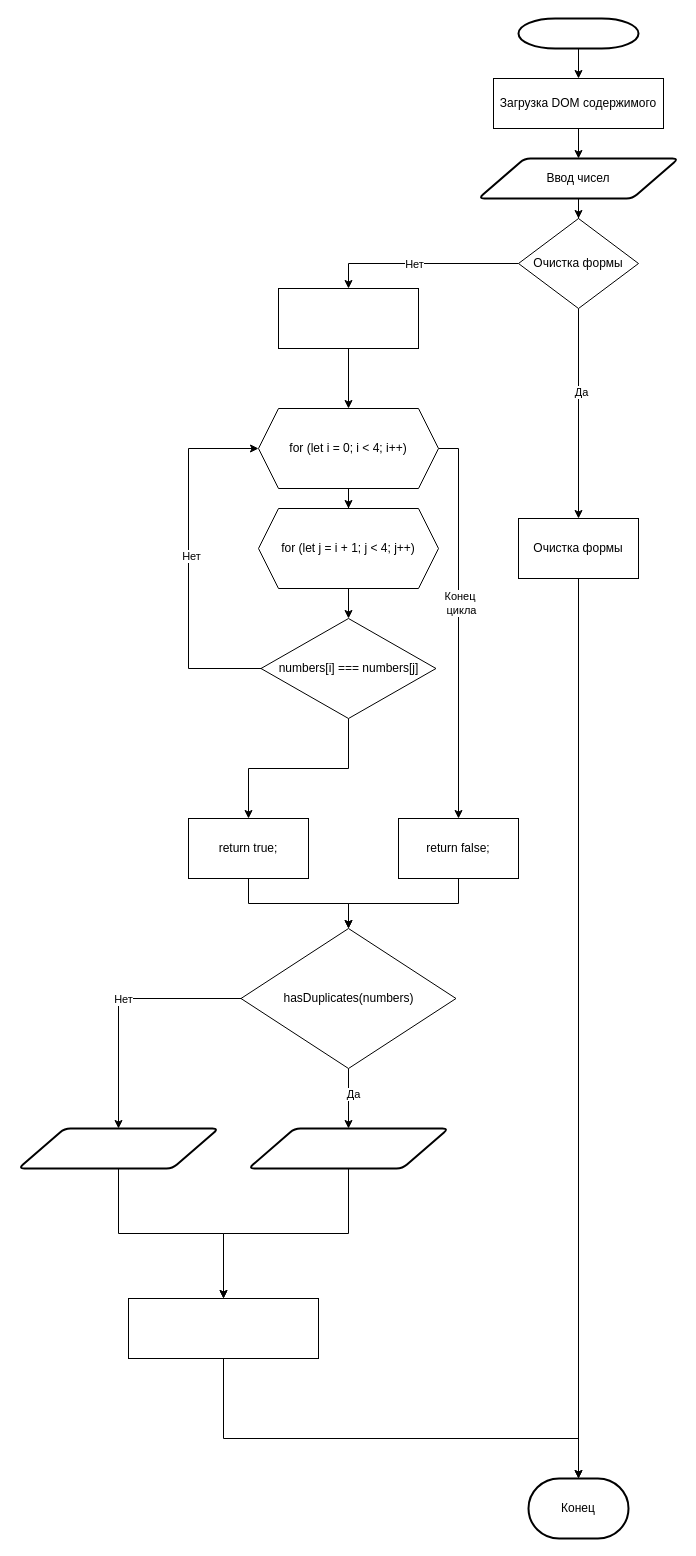
This 696x1556 diagram has some shape labels left out. Each missing label, with the centre of its shape:
"Все числа уникальны" belongs at pixel 118 1148.
"Есть повторяющиеся" belongs at pixel 348 1148.
"Заполнение numbers" belongs at pixel 348 318.
"Начало" belongs at pixel 578 33.
"Очищаем сообщение о результате через 3 сек." belongs at pixel 223 1328.
